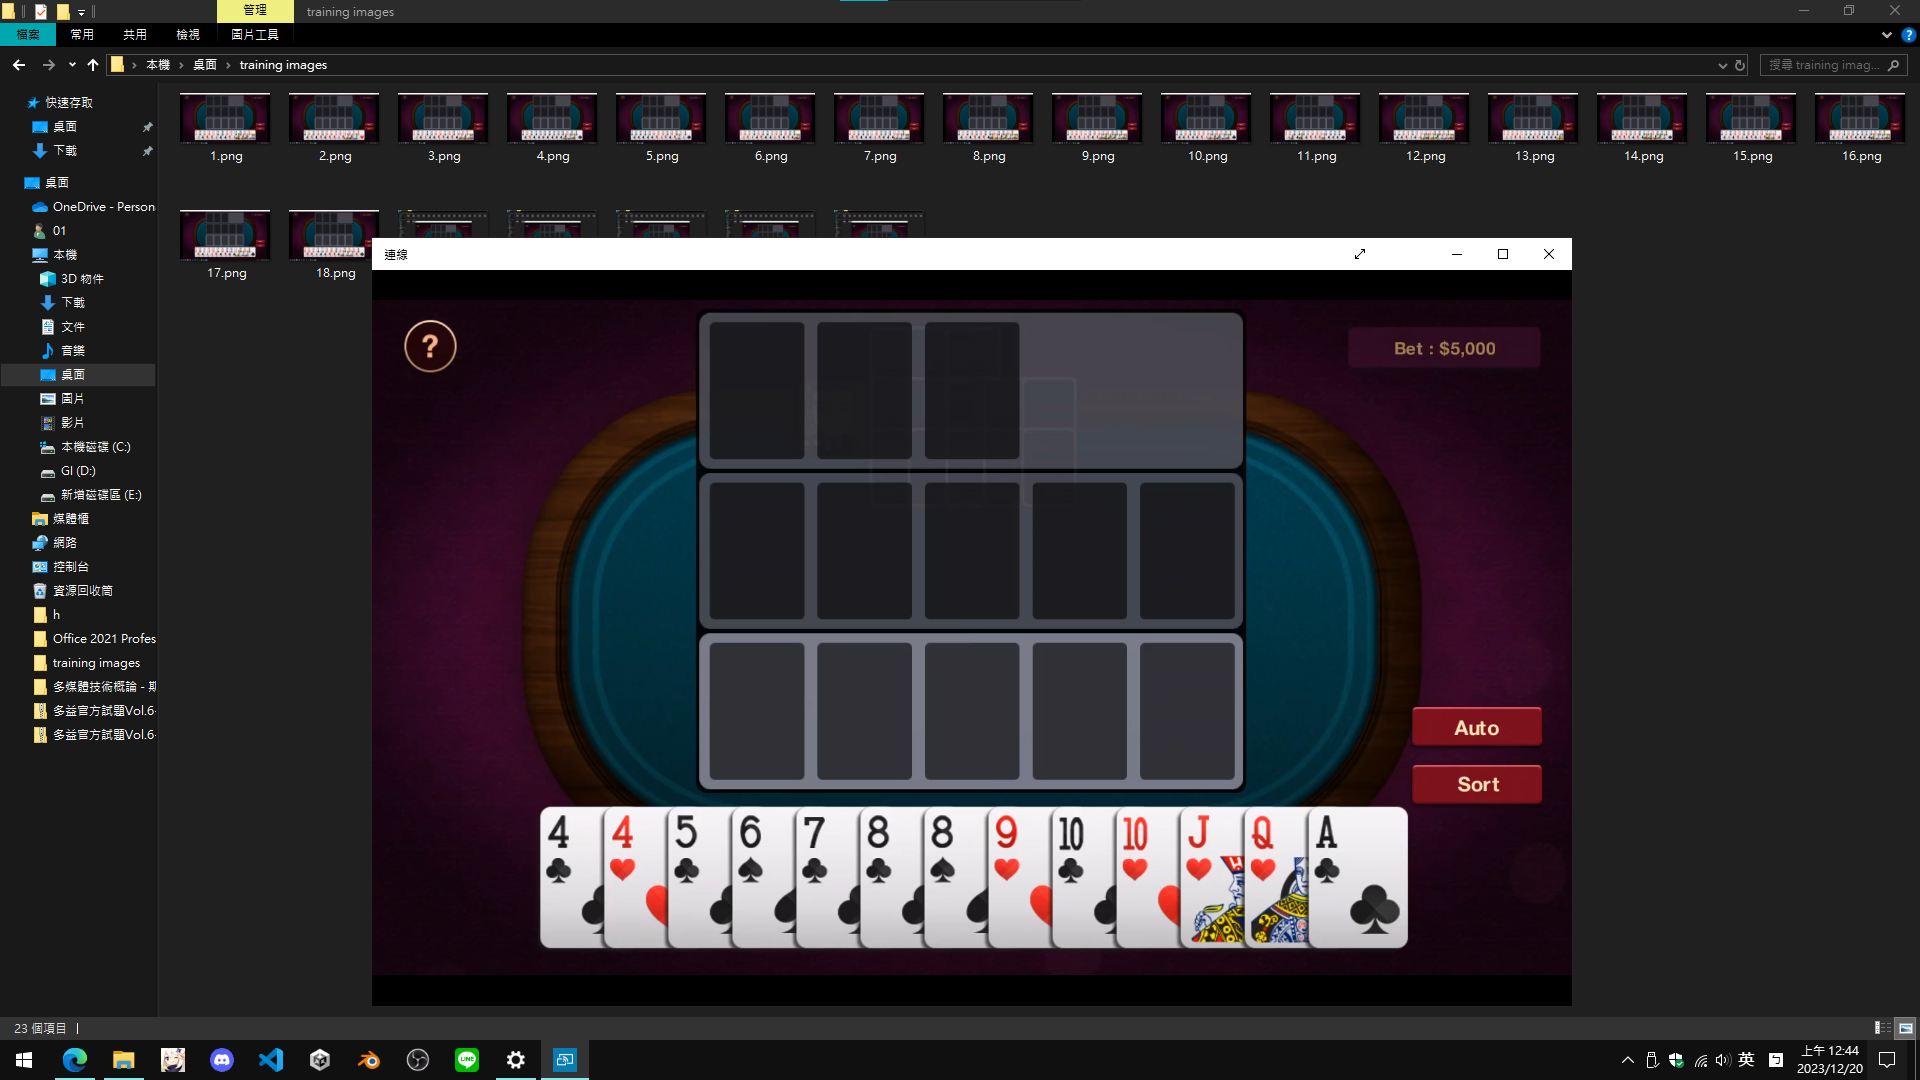10C: (1056, 811, 1087, 891)
10H: (1120, 810, 1149, 886)
4C: (546, 811, 578, 890)
4H: (609, 812, 638, 887)
5C: (673, 810, 704, 886)
6S: (736, 811, 766, 890)
7C: (800, 812, 829, 887)
8C: (864, 810, 898, 886)
8S: (928, 811, 957, 886)
9H: (992, 811, 1021, 886)
AC: (1311, 812, 1344, 890)
JH: (1187, 812, 1216, 886)
QH: (1247, 812, 1280, 886)
